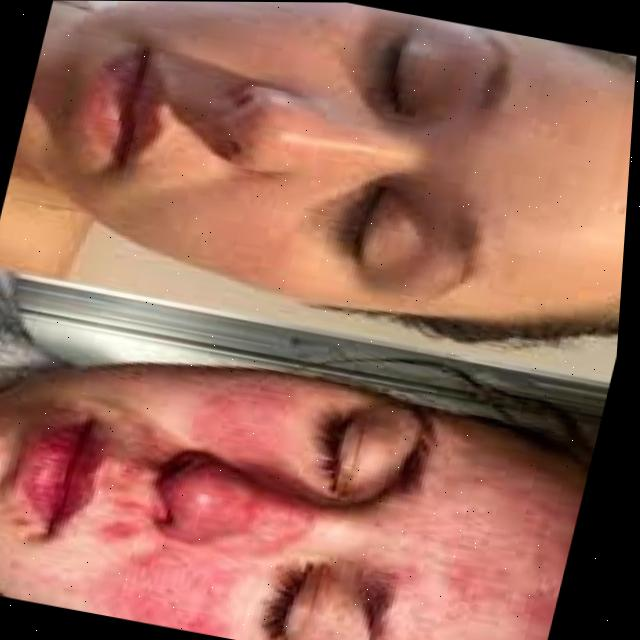Rosacea: (117, 354, 320, 640), (377, 445, 581, 640)
